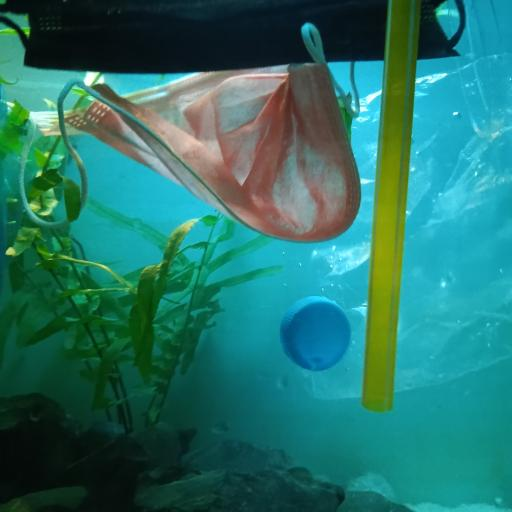bottle_cap: (280, 296, 352, 373)
mask: (19, 23, 362, 247), (1, 0, 468, 76)
plastic_bag: (305, 51, 512, 399)
plastic_straw: (362, 0, 425, 411)
